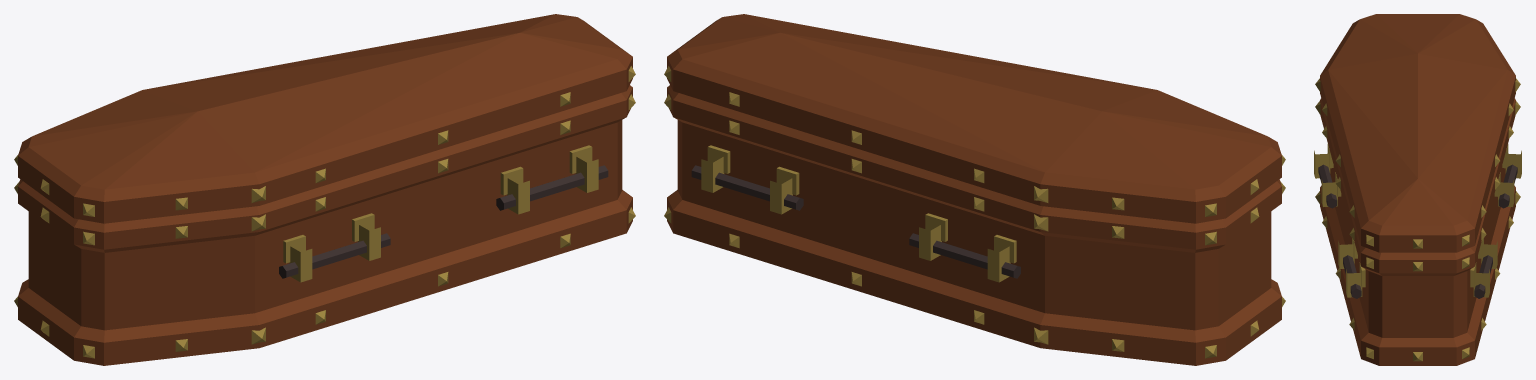
The model's file is coffin-prop-d62082.glb.
The picture shows the model from 3 angles, left to right: view 1: azimuth 30°, elevation 25°; view 2: azimuth 150°, elevation 25°; view 3: azimuth 270°, elevation 25°; orthographic projection. The views are drawn at different scales.
Parts seen in each view (by area): view 1: body, lid-panel; view 2: body, lid-panel; view 3: lid-panel, body.
Part boxes in pixels (x1,y1,x2,y2): body: (14, 85, 635, 365); lid-panel: (14, 14, 635, 223); body: (664, 85, 1285, 365); lid-panel: (664, 14, 1285, 223); lid-panel: (1315, 14, 1520, 252); body: (1314, 98, 1521, 365).
Size of the model in its own units: 1.94 by 0.619 by 0.7637.
